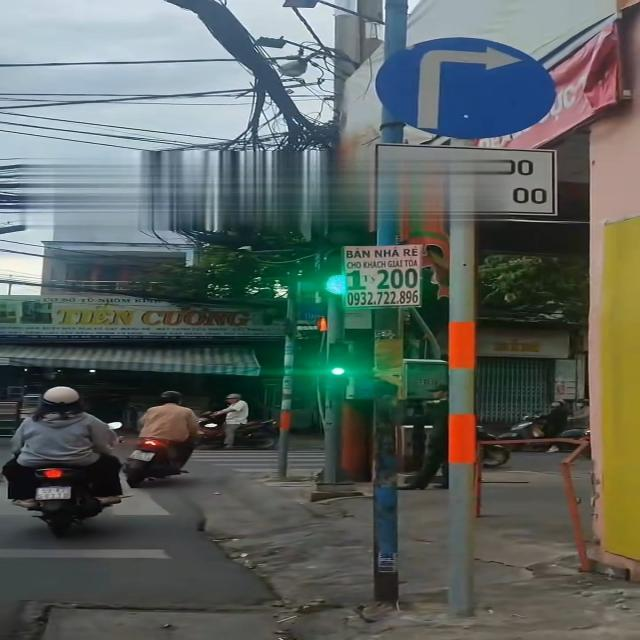301d-cac-xe-chi-duoc-re-phai-2: (368, 32, 560, 140)
